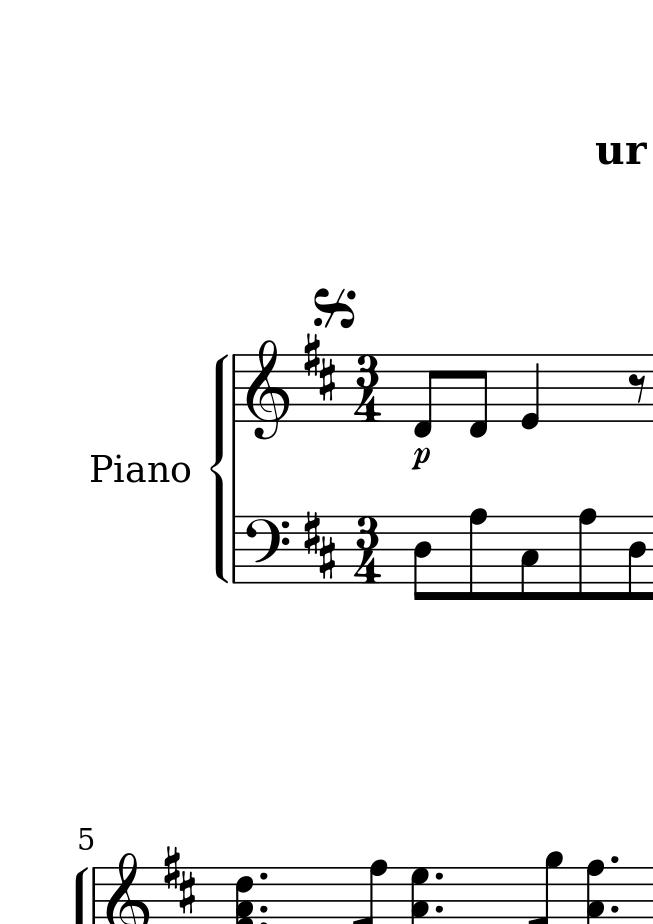3: (354, 514, 381, 550), (354, 353, 381, 388)
4: (352, 389, 382, 422), (353, 550, 382, 583)
4_0: (519, 353, 542, 432)
5: (77, 824, 95, 853)
8_-1: (410, 352, 441, 441), (467, 351, 492, 440)
8_3: (519, 514, 541, 603)
8_4: (412, 515, 433, 603)
8_6: (627, 514, 647, 604)
8_8: (463, 506, 489, 604), (574, 507, 598, 604)
Brace: (209, 351, 229, 583)
D_S: (301, 331, 339, 401), (301, 507, 338, 578)
Fclef: (241, 514, 290, 585)
Gclef: (245, 334, 289, 441)
Pno: (88, 453, 190, 485)
Rests8: (627, 372, 648, 405)
Segno: (308, 284, 361, 331)
Single_barline: (227, 356, 243, 421), (228, 517, 242, 584)
TimeSig: (352, 356, 384, 421), (352, 517, 383, 583)
dot: (256, 867, 270, 883), (608, 902, 621, 916), (258, 901, 270, 916), (608, 853, 621, 866), (433, 869, 445, 883), (433, 902, 445, 916)
p: (409, 446, 432, 474)
